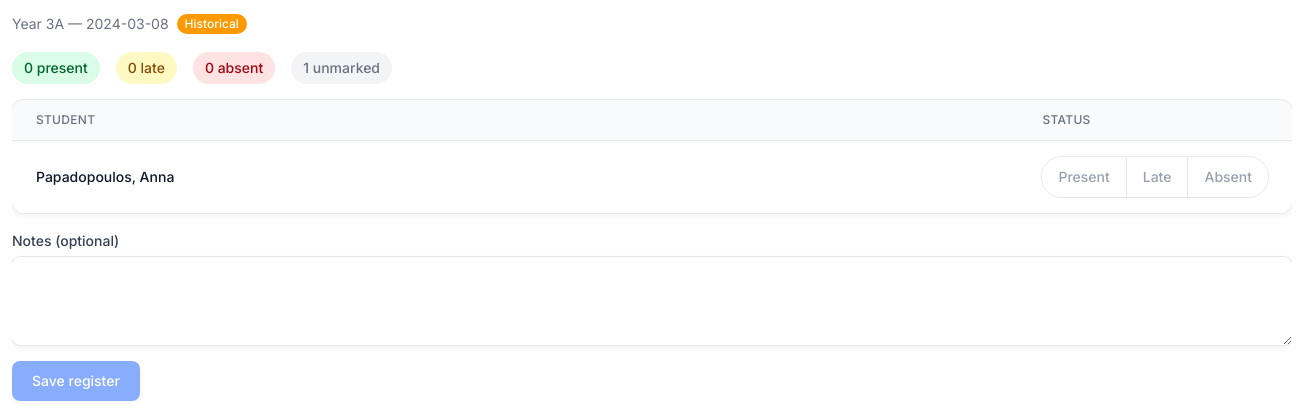
Scenario: AttendanceForm › refreshes the notes from the saved result
In the text box labelled "Notes (optional)": (652,301) [12,257,1292,345], type "  Trimmed  "
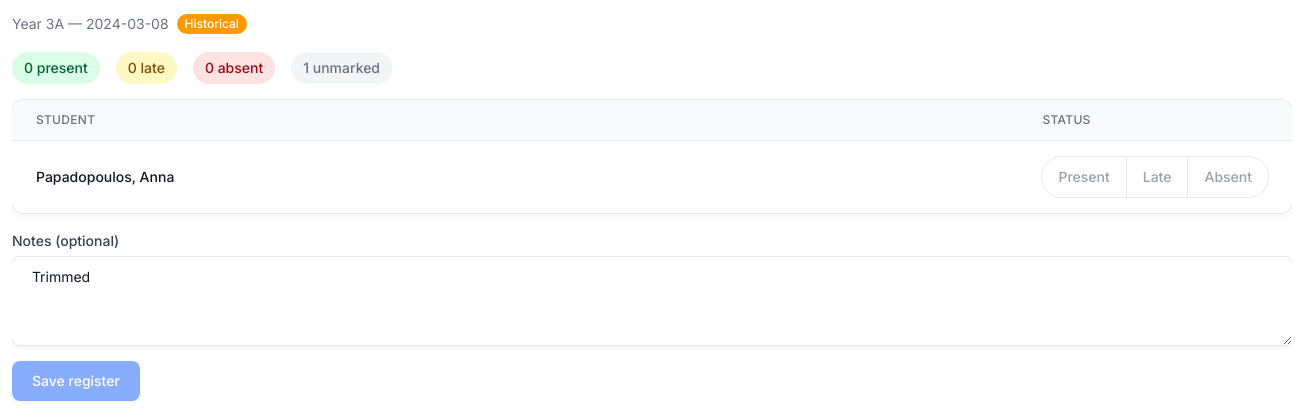
Click the button "Present": (1084,177) [1042,157,1126,197]
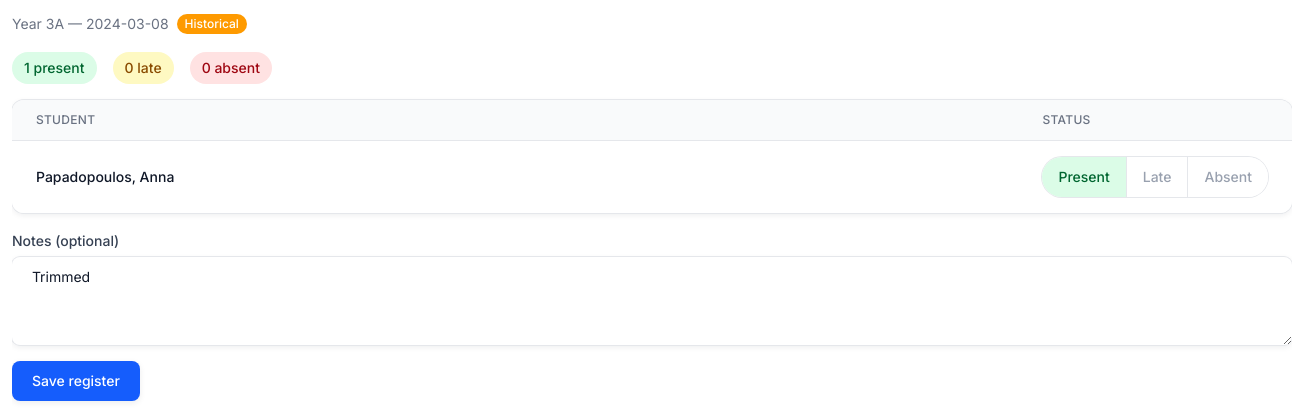
Submit the text "Save register"
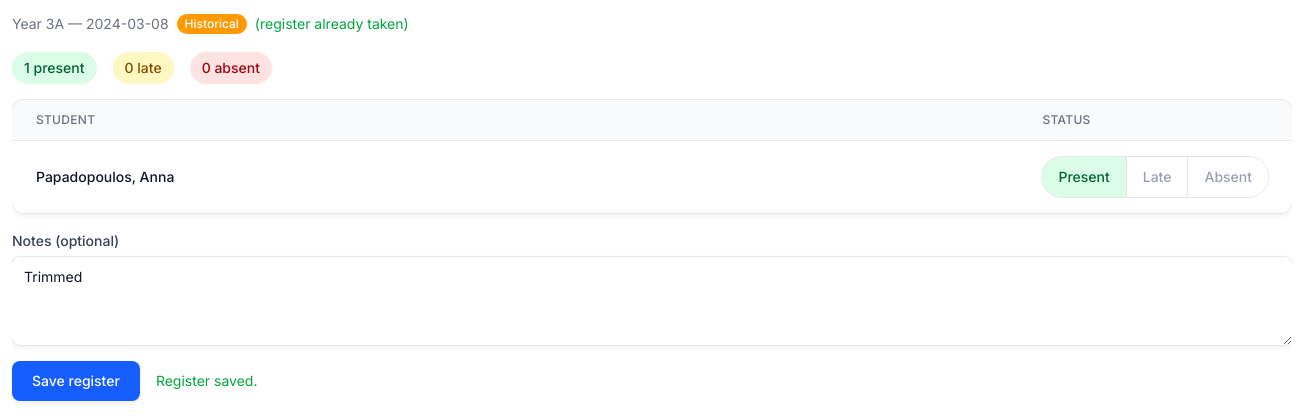
Now the text "Register saved." is shown, box [156,369,258,393]
